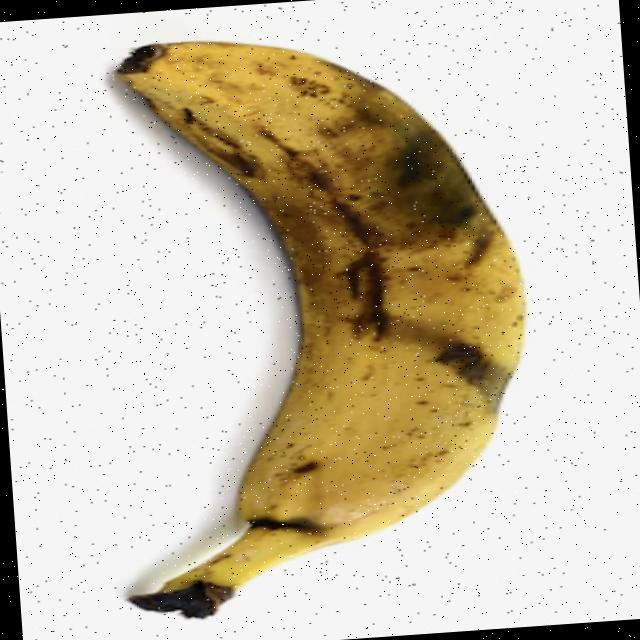overripe: (82, 18, 556, 626)
